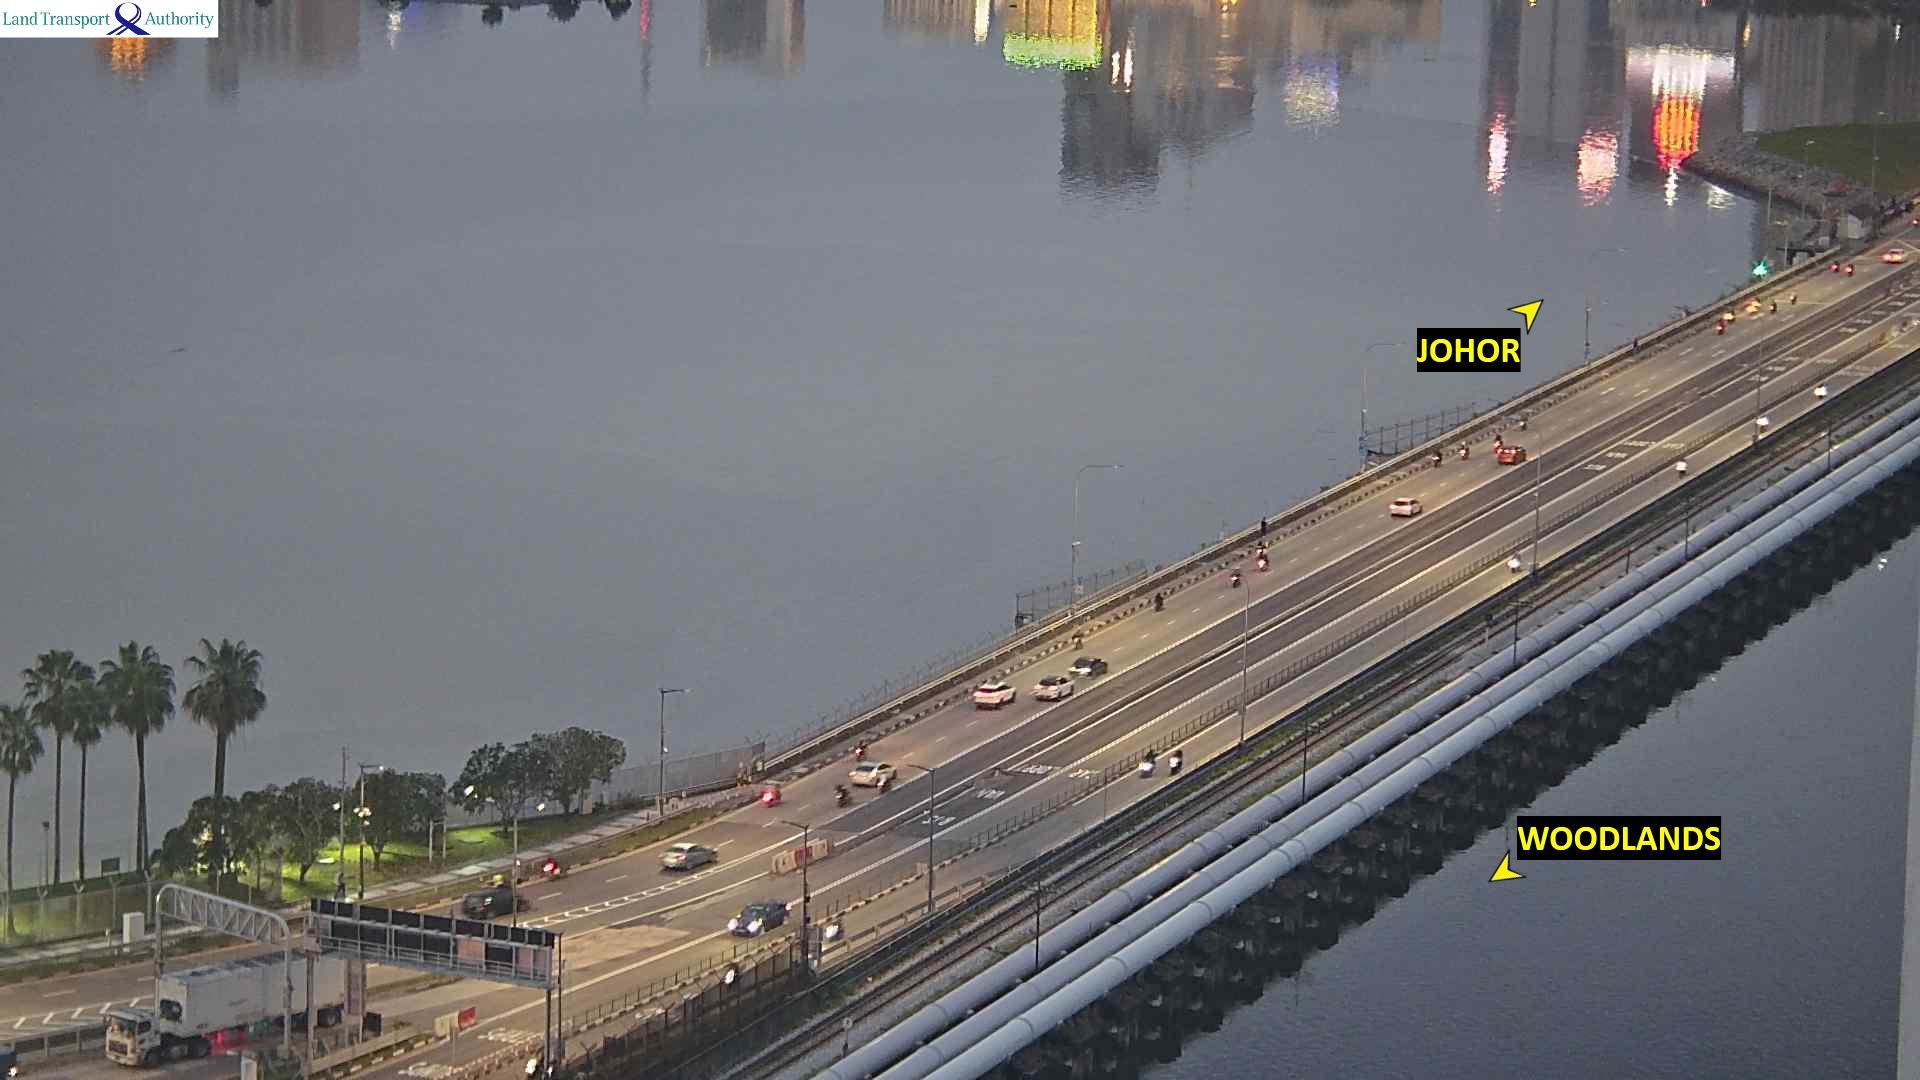vehicle-causeway-johor: (663, 843, 721, 872), (463, 887, 521, 916), (972, 680, 1017, 709), (1033, 674, 1075, 702), (849, 762, 895, 785), (1068, 655, 1105, 675), (1390, 497, 1422, 516), (1498, 447, 1526, 464), (545, 856, 559, 878), (765, 785, 779, 804), (1257, 543, 1267, 570), (1155, 591, 1167, 613), (836, 786, 848, 804), (1884, 249, 1903, 261), (855, 740, 865, 760), (1073, 630, 1083, 649), (1232, 566, 1240, 587), (1725, 311, 1735, 323), (1717, 320, 1726, 334), (1433, 451, 1441, 465), (1494, 435, 1502, 450), (1520, 415, 1527, 433), (1461, 443, 1468, 459), (1846, 264, 1854, 277), (1832, 261, 1838, 273), (1789, 293, 1796, 305), (1770, 299, 1775, 313)
vehicle-causeway-singapore: (107, 948, 344, 1067), (728, 905, 785, 942), (1139, 749, 1156, 778), (1167, 748, 1184, 773), (827, 919, 845, 940), (1509, 549, 1522, 574), (1815, 384, 1826, 398), (1677, 456, 1687, 475), (1758, 417, 1767, 431)
